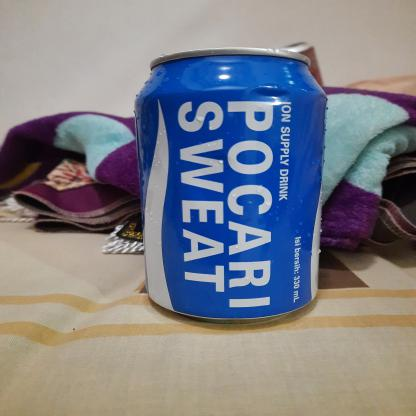bottle: (129, 44, 331, 328)
